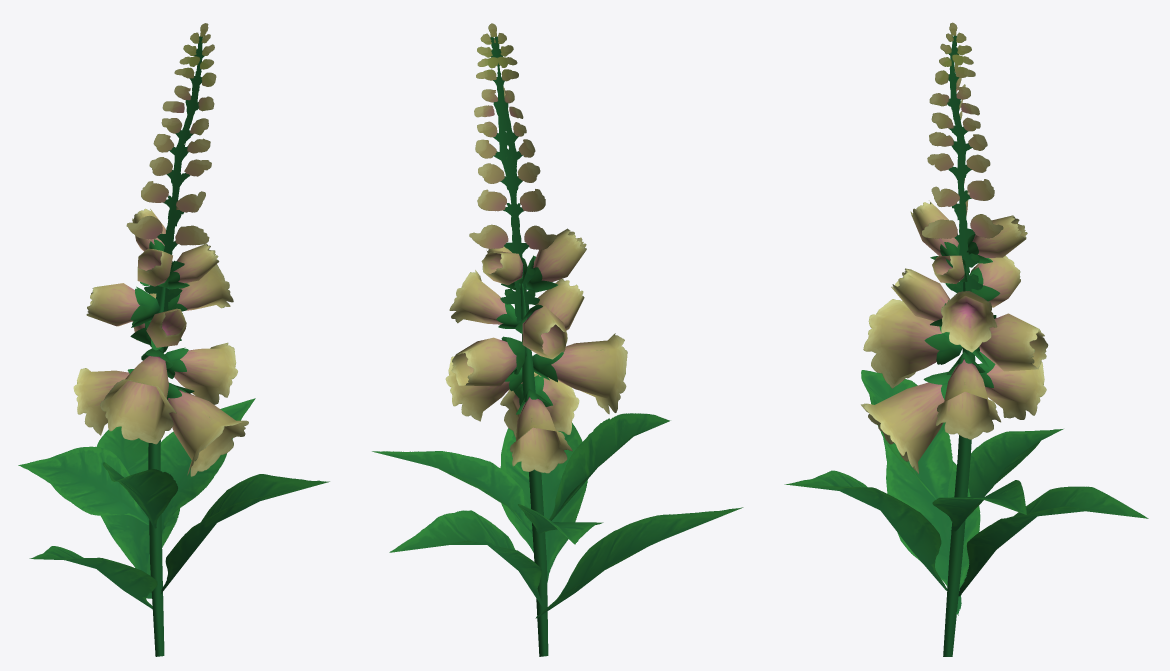
File: MSH_FWOF_Flower_Large_C_02.fbx
3 renders of one model, left to right at view 1: azimuth 30°, elevation 25°; view 2: azimuth 150°, elevation 25°; view 3: azimuth 270°, elevation 25°, orthographic. The views are drawn at different scales.
Parts seen in each view (by area): view 1: MSH_FWOF_Flower_Large_C_02; view 2: MSH_FWOF_Flower_Large_C_02; view 3: MSH_FWOF_Flower_Large_C_02.
Part boxes in pixels (box(x1,y1,x2,y2)): MSH_FWOF_Flower_Large_C_02: box(18, 23, 329, 656); MSH_FWOF_Flower_Large_C_02: box(372, 23, 743, 656); MSH_FWOF_Flower_Large_C_02: box(784, 22, 1148, 656).
Bounding box in the file's own units: 0.4961 × 0.9641 × 0.4927.
